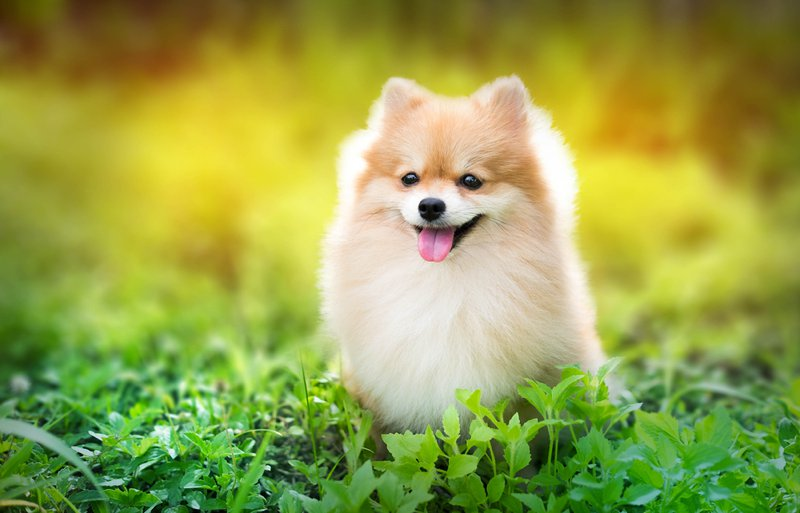pomeranian: (326, 65, 632, 435)
